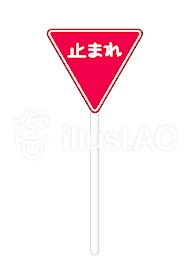Regulatory_sign_triangle: (47, 26, 149, 108)
